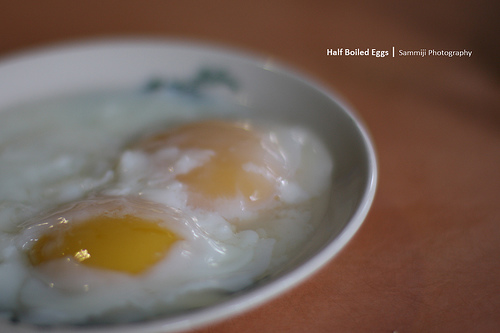egg: (0, 165, 285, 332), (117, 115, 332, 218)
